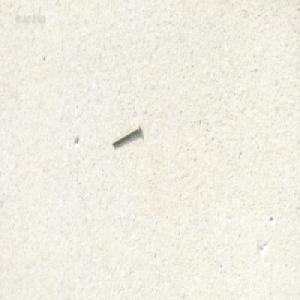Bolt: (111, 123, 140, 146)
